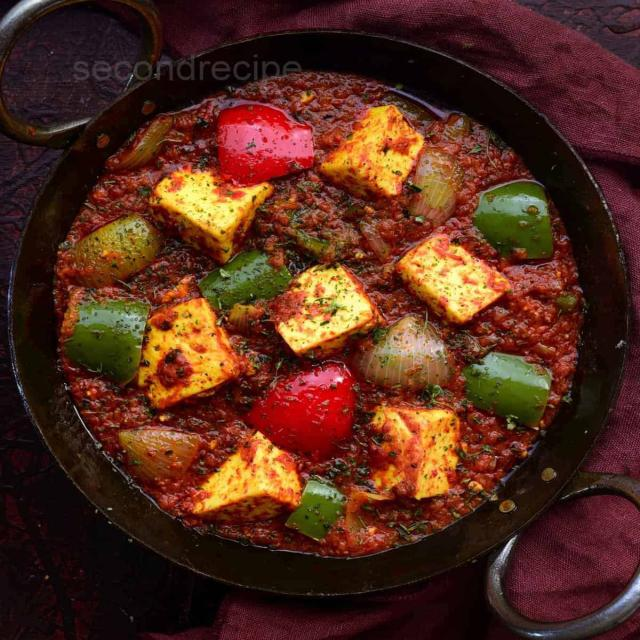panneer: (99, 123, 524, 526)
